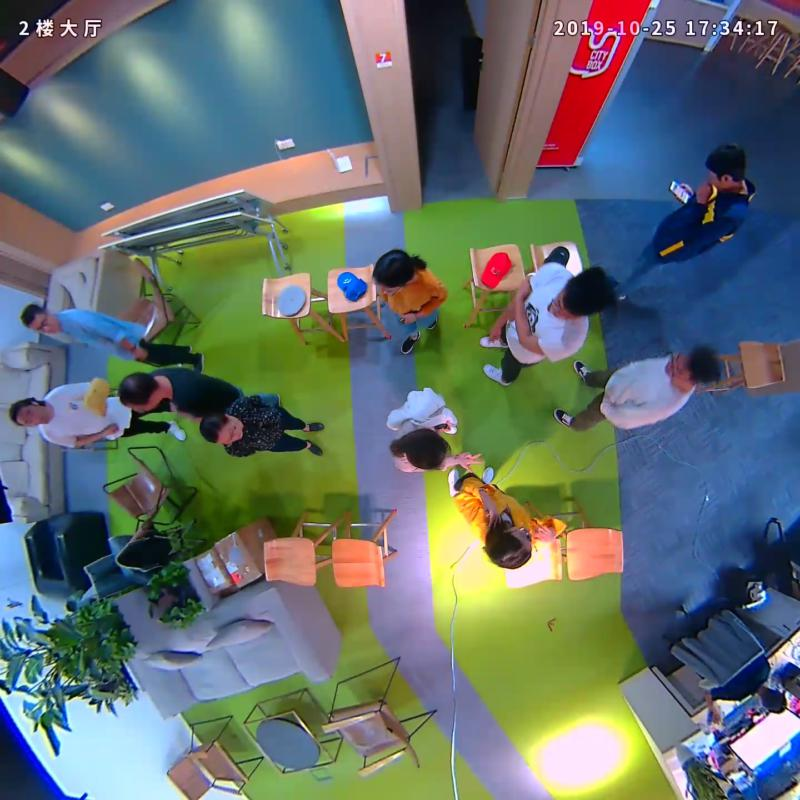head: (551, 265, 615, 318), (665, 344, 719, 386), (400, 426, 449, 471), (371, 249, 415, 297), (705, 143, 746, 191), (487, 527, 532, 570), (117, 370, 161, 413), (199, 412, 243, 444), (8, 395, 45, 428), (20, 303, 59, 334)
